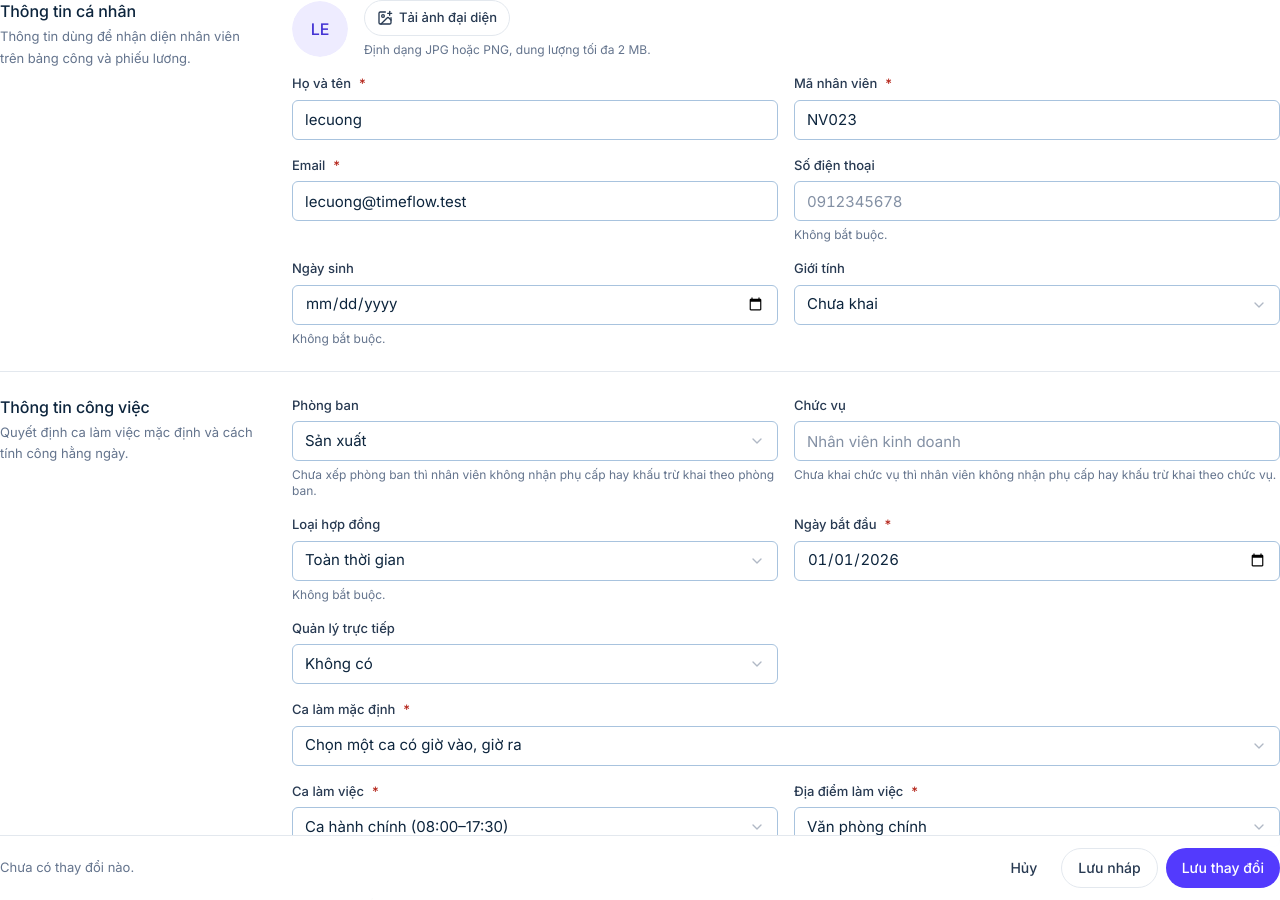
Test: EmployeeForm — nut Hủy › 3. dang co thay doi chua luu -> hoi truoc, chua dong/dieu huong gi ca
Replace the text in the field labelled "Họ và tên *" with "Tên khác" at (535, 120), box [292, 100, 778, 140]
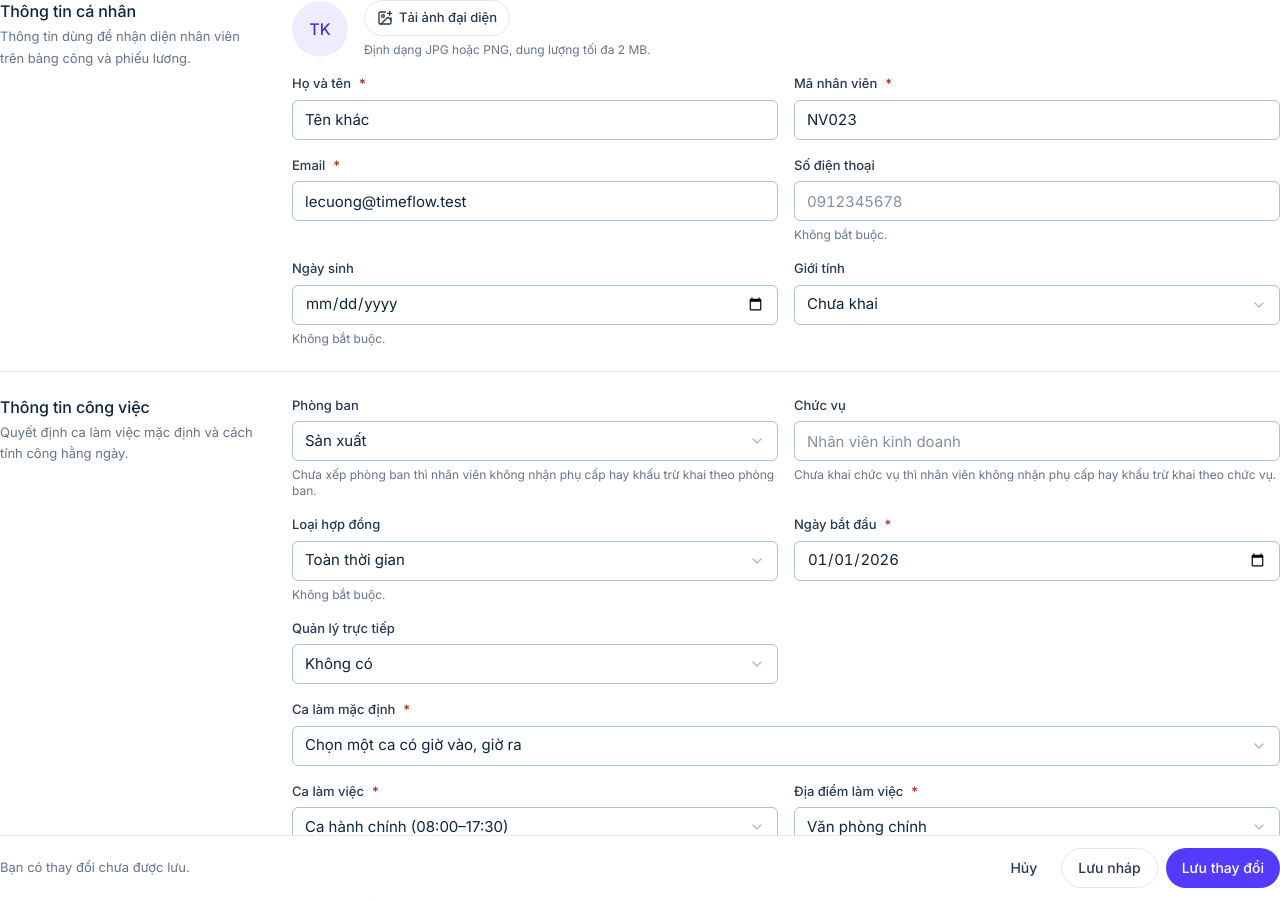
Click the button "Hủy" at (1024, 868), box [994, 848, 1053, 888]
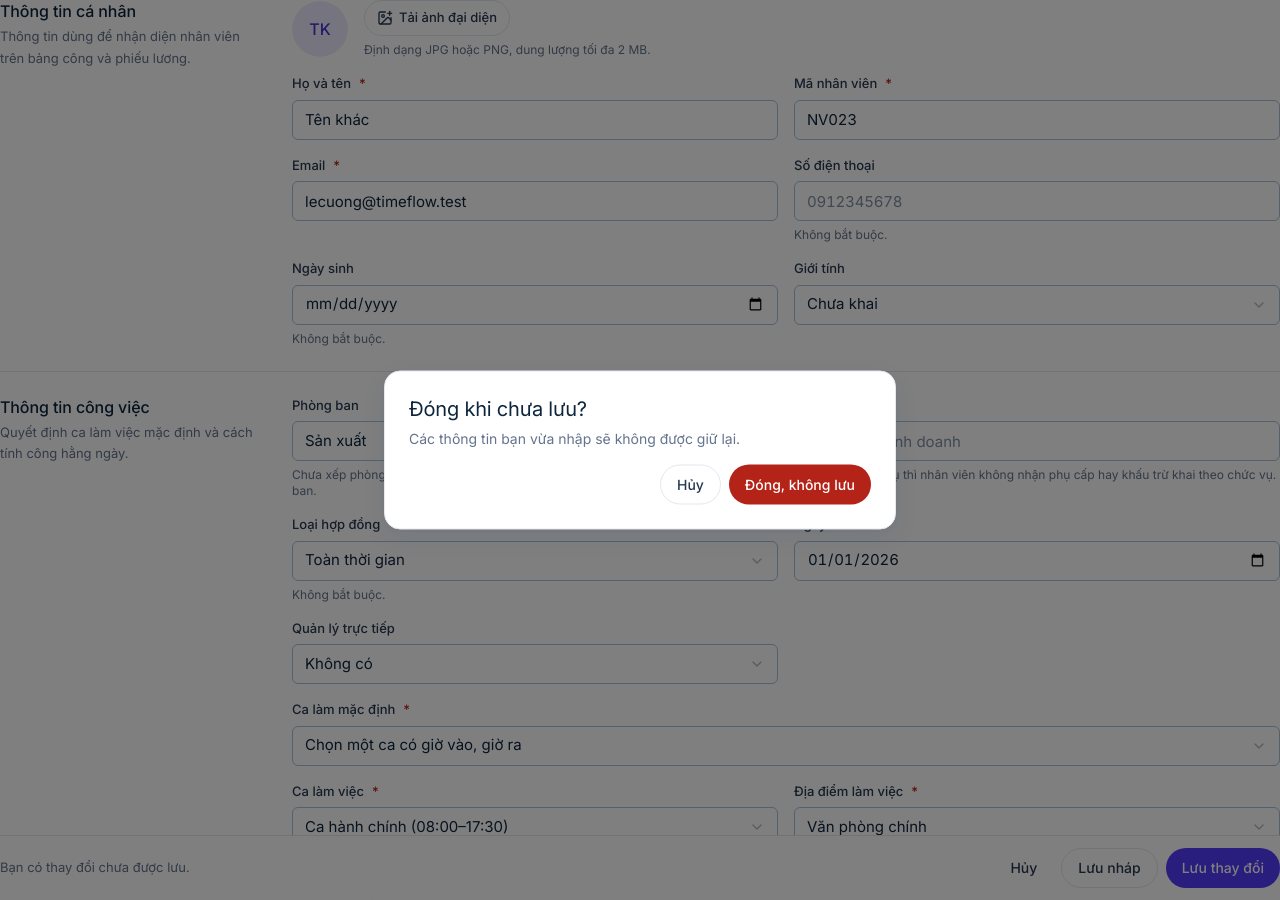
expect the heading "Đóng khi chưa lưu?" is shown: met, box [409, 396, 587, 422]
